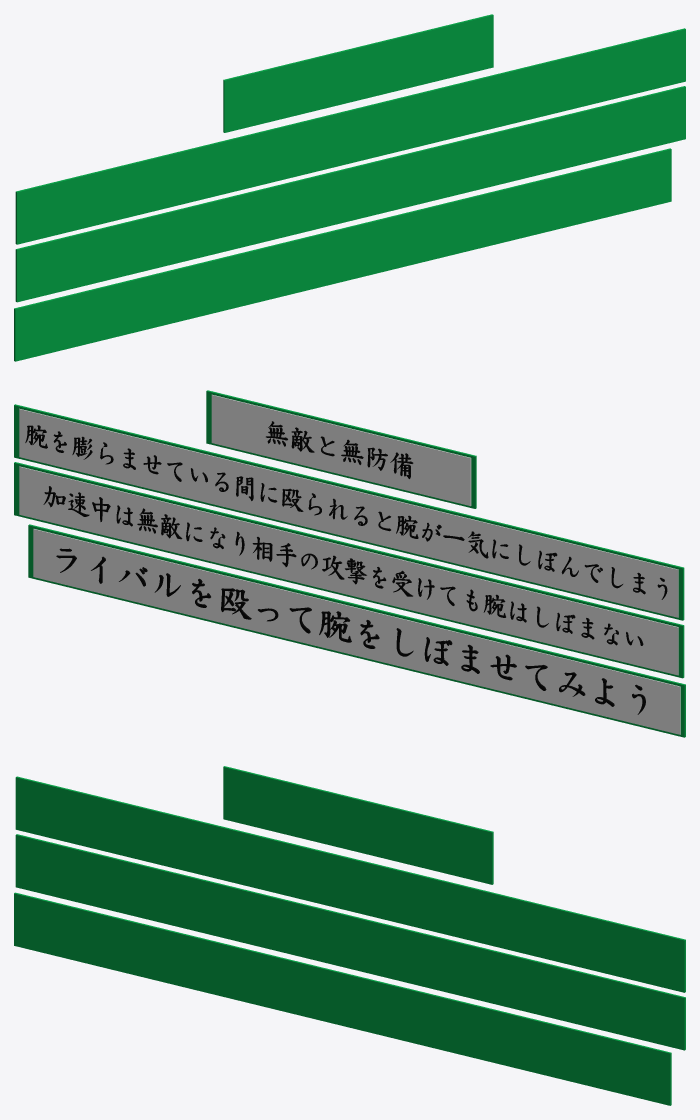
3 views of the same model, one above another, from view 1: azimuth 30°, elevation 25°; view 2: azimuth 150°, elevation 25°; view 3: azimuth 330°, elevation 25° (orthographic).
Parts seen in each view (by area): view 1: 立方体; view 2: 立方体.005, 立方体, テキスト.002, 立方体.001; view 3: 立方体.
Boxes of the visible parts, box(x1,y1,x2,y2) form: 立方体: box(14, 14, 685, 361); 立方体.005: box(19, 394, 680, 734); 立方体: box(14, 390, 685, 737); テキスト.002: box(25, 421, 667, 714); 立方体.001: box(212, 395, 470, 505); 立方体: box(14, 766, 685, 1105).
Bounding box in the file's own units: 26.8 × 8.78 × 0.1935.
Materials: 10 (10 with a texture image).
